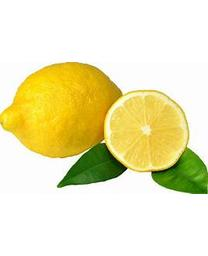lemon: (1, 63, 123, 159), (104, 89, 191, 172)
